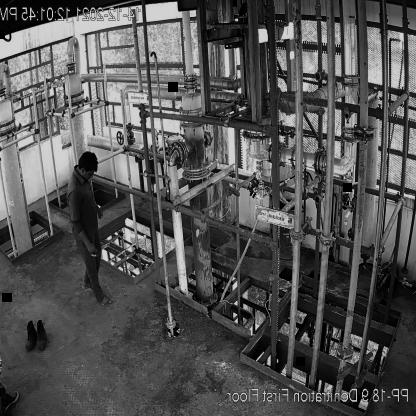no_shoes: (97, 292, 112, 307)
shoes: (33, 318, 48, 352), (24, 321, 36, 350)
